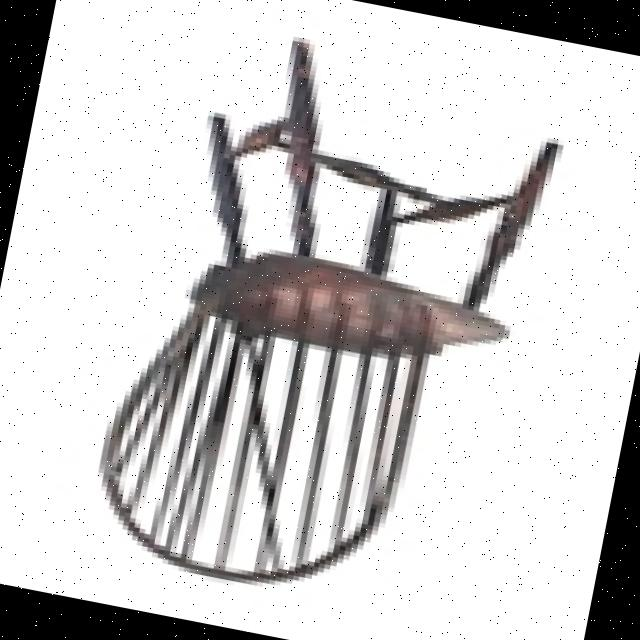Chair: (47, 15, 614, 640)
